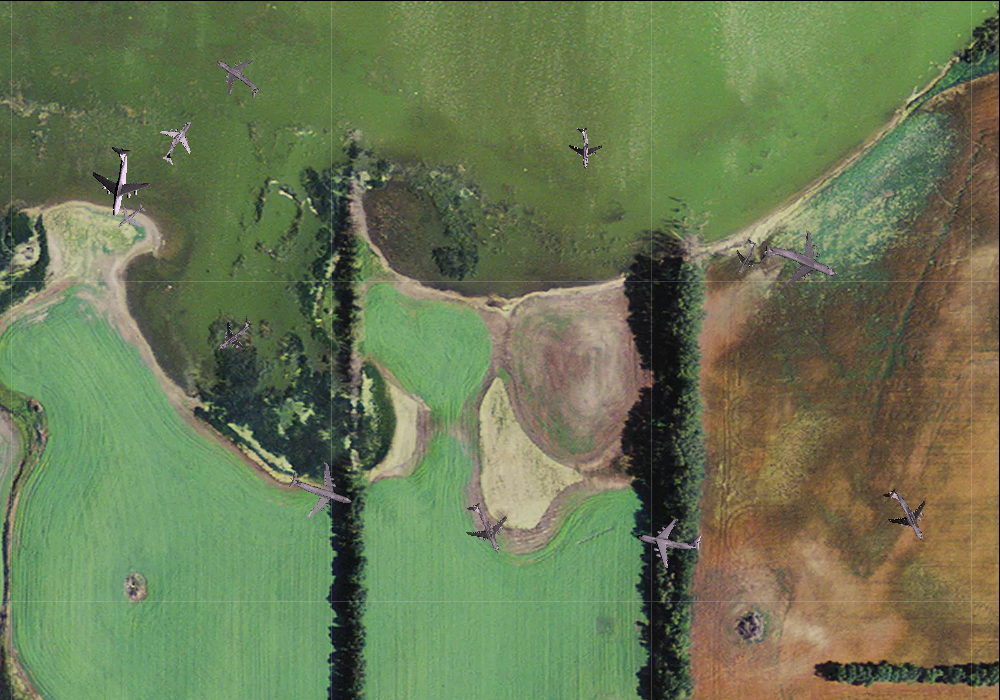plane: (750, 214, 849, 310), (279, 450, 361, 530), (79, 141, 157, 222), (631, 504, 707, 576), (870, 477, 942, 553), (201, 41, 272, 112), (452, 493, 519, 563), (146, 109, 209, 173), (205, 306, 263, 363), (723, 233, 769, 281), (108, 194, 152, 238), (564, 126, 603, 168)
